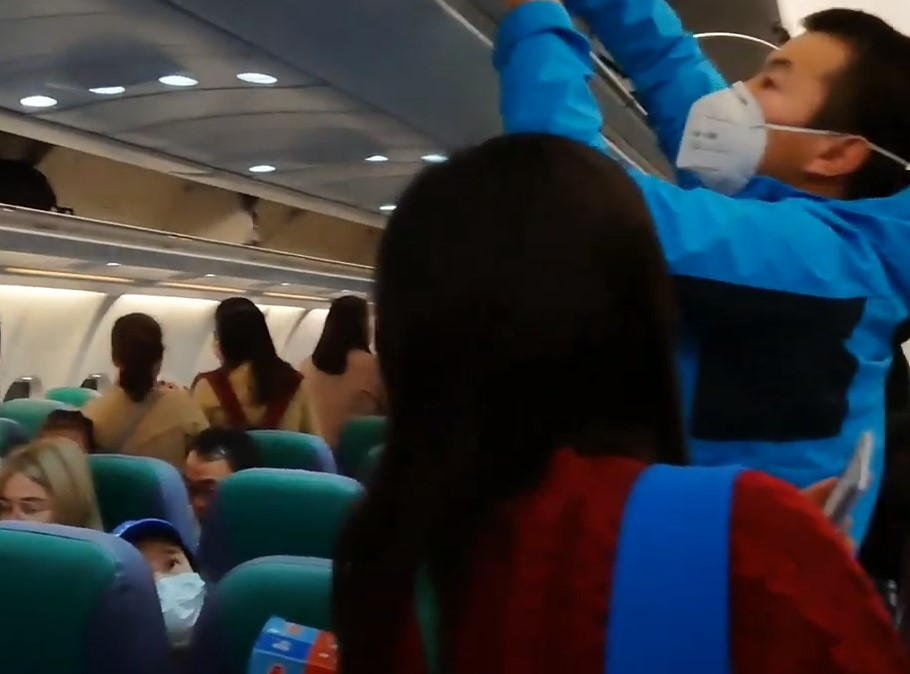face_no_mask: (0, 436, 94, 525), (185, 428, 251, 522)
face_with_mask: (672, 9, 900, 199), (121, 526, 205, 641)
